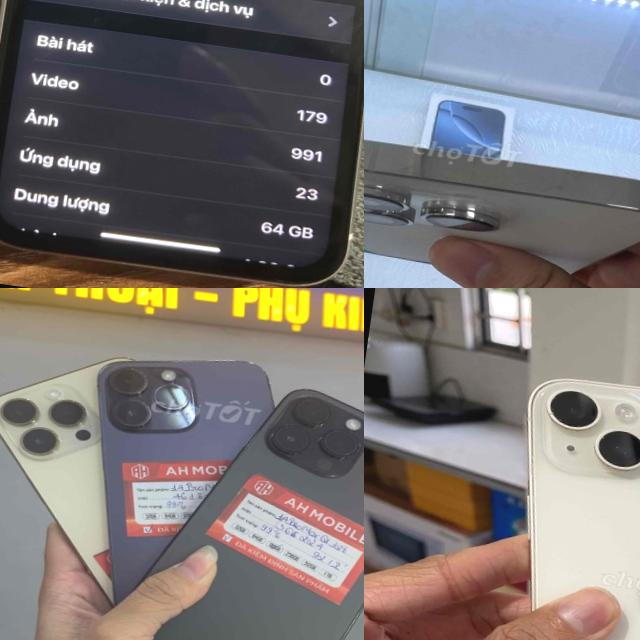gen_14: (0, 378, 263, 640), (150, 389, 364, 640), (364, 112, 640, 288), (468, 363, 640, 640)
gen_x_xs: (0, 0, 364, 288)
